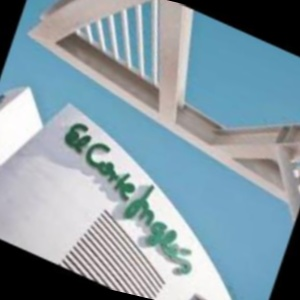corte_ingles: (162, 168, 262, 300)
